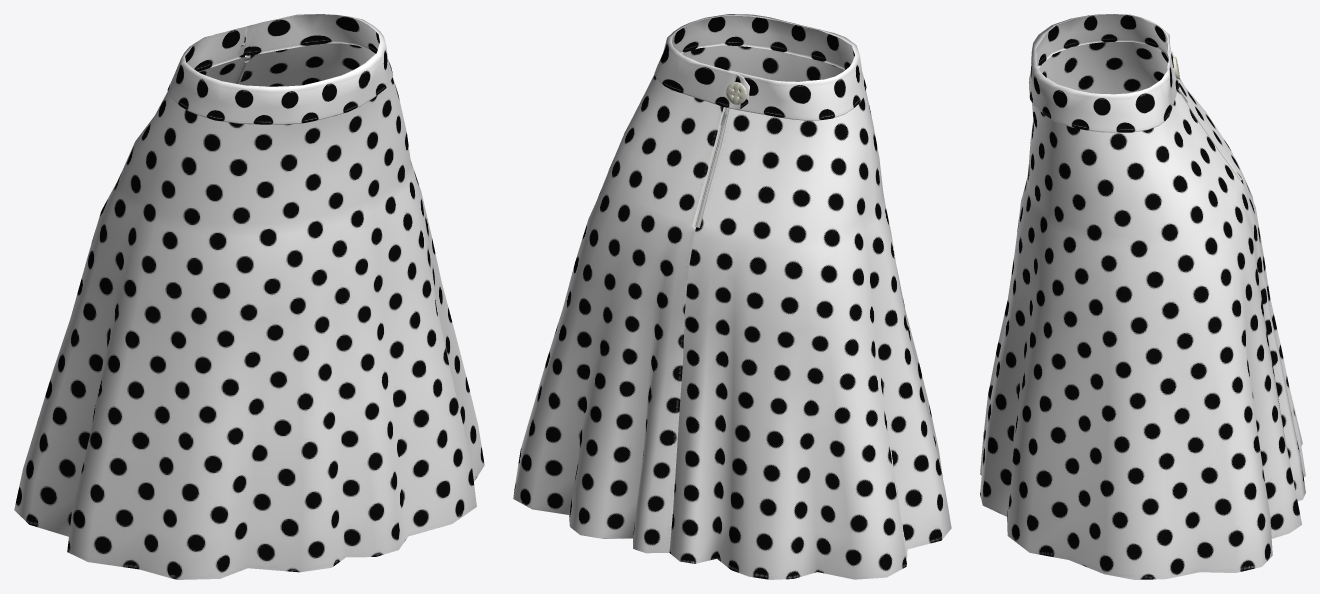
Rendered from punkduck-retro-polka-dot-skirt.glb.
3 views of the same model, side by side, from view 1: azimuth 30°, elevation 25°; view 2: azimuth 150°, elevation 25°; view 3: azimuth 270°, elevation 25° (orthographic). The views are drawn at different scales.
Parts seen in each view (by area): view 1: retro polka dot skirt; view 2: retro polka dot skirt; view 3: retro polka dot skirt.
Boxes of the visible parts, x1,y1,x2,y2 form: retro polka dot skirt: (14,14,484,579); retro polka dot skirt: (513,14,951,579); retro polka dot skirt: (980,14,1305,579).
Bounding box in the file's own units: 57.09 × 61.23 × 41.77.
1 material, 1 textured.
